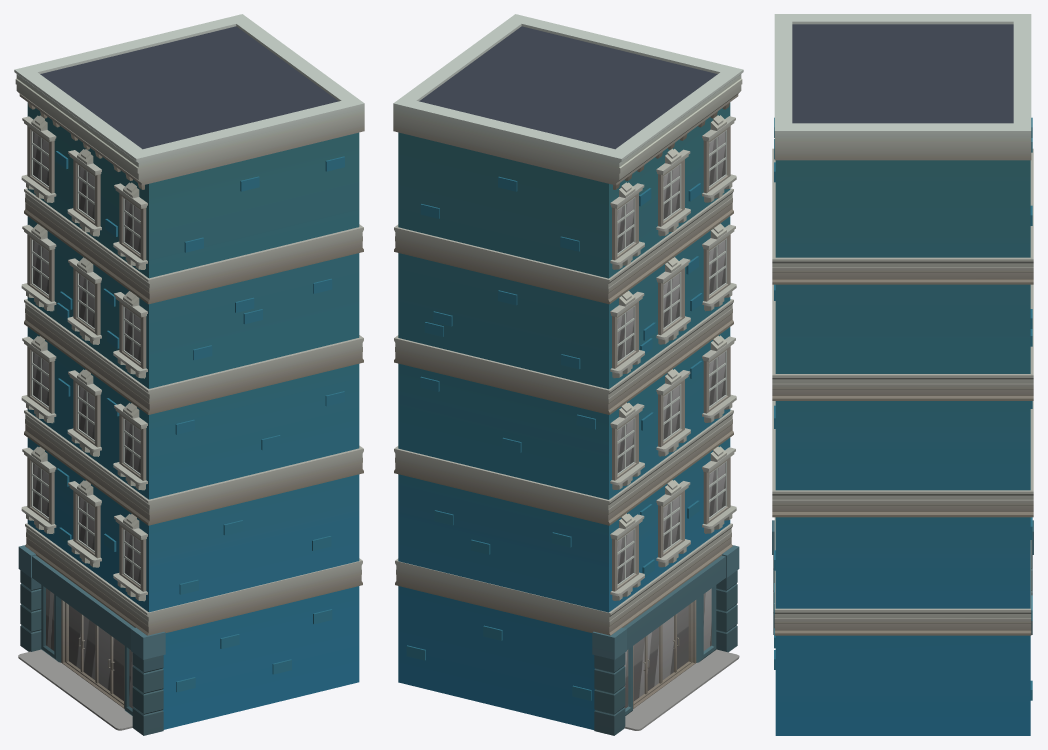
Rendered from Building_21_1_J.fbx.
3 views of the same model, side by side, from view 1: azimuth 30°, elevation 25°; view 2: azimuth 150°, elevation 25°; view 3: azimuth 270°, elevation 25° (orthographic). The views are drawn at different scales.
Visible parts, largest first — view 1: Building_21_1_J; view 2: Building_21_1_J; view 3: Building_21_1_J.
Part boxes in pixels (x1,y1,x2,y2): Building_21_1_J: (14,14,364,735); Building_21_1_J: (393,14,743,735); Building_21_1_J: (772,14,1033,735).
Size of the model in its own units: 779 by 1825 by 713.
